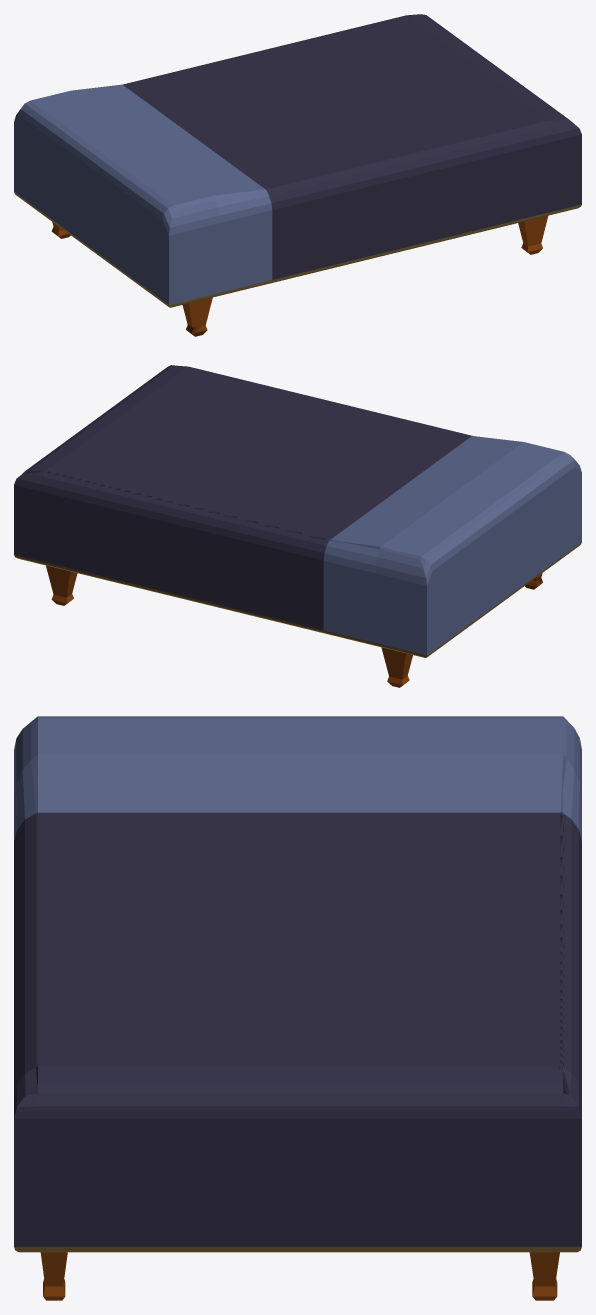
Rendered from CAMA.fbx.
3 views of the same model, one above another, from view 1: azimuth 30°, elevation 25°; view 2: azimuth 150°, elevation 25°; view 3: azimuth 270°, elevation 25° (orthographic). The views are drawn at different scales.
Visible parts, largest first — view 1: Cube; view 2: Cube; view 3: Cube.
Part boxes in pixels (bbox=[...]): Cube: bbox=[14, 14, 581, 336]; Cube: bbox=[14, 365, 581, 687]; Cube: bbox=[14, 716, 581, 1300].
Size of the model in its own units: 4 by 1.29 by 2.6.
Materials: 1 (1 with a texture image).
